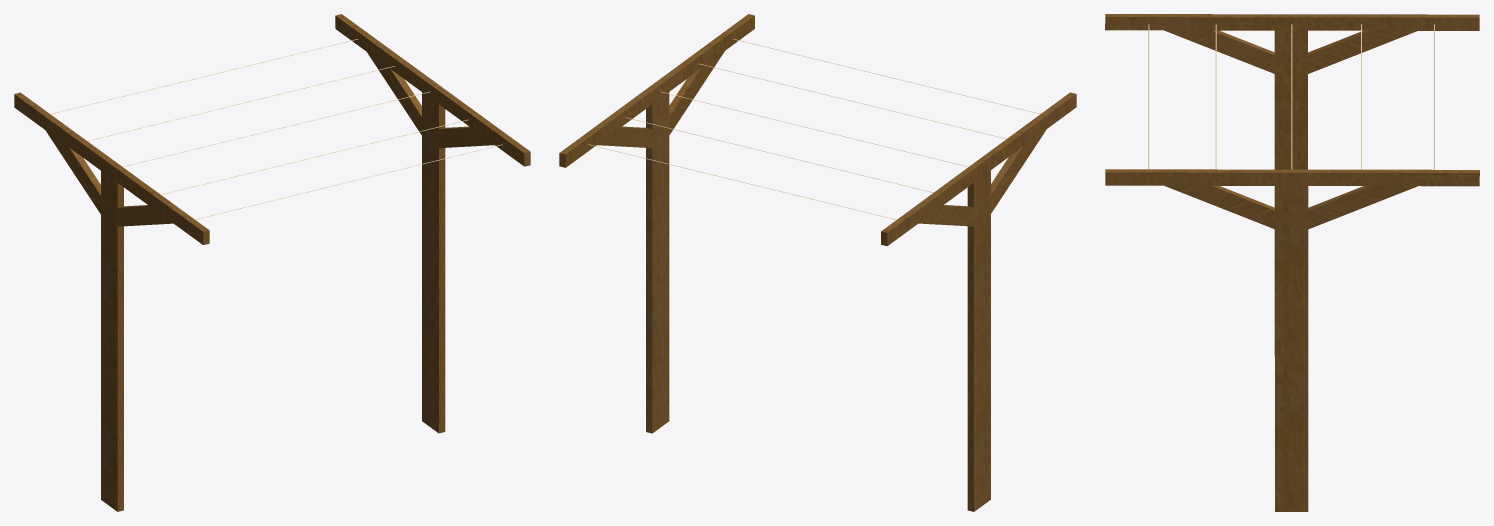
Rendered from sh-contrib-etendoir-linge.glb.
3 renders of one model, left to right at view 1: azimuth 30°, elevation 25°; view 2: azimuth 150°, elevation 25°; view 3: azimuth 270°, elevation 25°, orthographic.
Parts seen in each view (by area): view 1: Left, Strings; view 2: Left, Strings; view 3: Left, Strings.
Boxes of the visible parts, x1,y1,x2,y2 form: Left: [14, 14, 530, 511]; Strings: [50, 39, 502, 219]; Left: [559, 14, 1076, 511]; Strings: [588, 39, 1040, 219]; Left: [1105, 14, 1479, 511]; Strings: [1148, 24, 1434, 169].
Size of the model in its own units: 1 by 1 by 1.
Materials: 2 (1 with a texture image).
